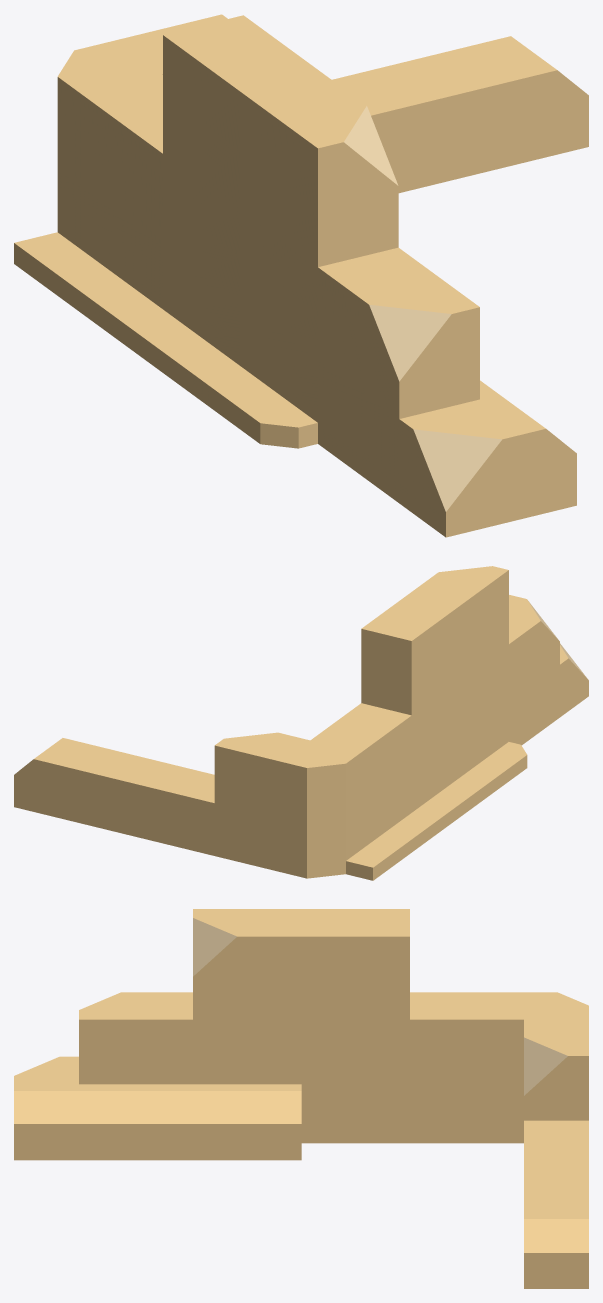
Rendered from ruin_14.fbx.
3 renders of one model, top to bottom at view 1: azimuth 30°, elevation 25°; view 2: azimuth 150°, elevation 25°; view 3: azimuth 270°, elevation 25°, orthographic. The views are drawn at different scales.
Parts seen in each view (by area): view 1: ruin_14; view 2: ruin_14; view 3: ruin_14.
Part boxes in pixels (x1,y1,x2,y2): ruin_14: [14, 14, 588, 537]; ruin_14: [14, 566, 588, 880]; ruin_14: [14, 909, 588, 1288].
Size of the model in its own units: 249 by 128 by 322.
